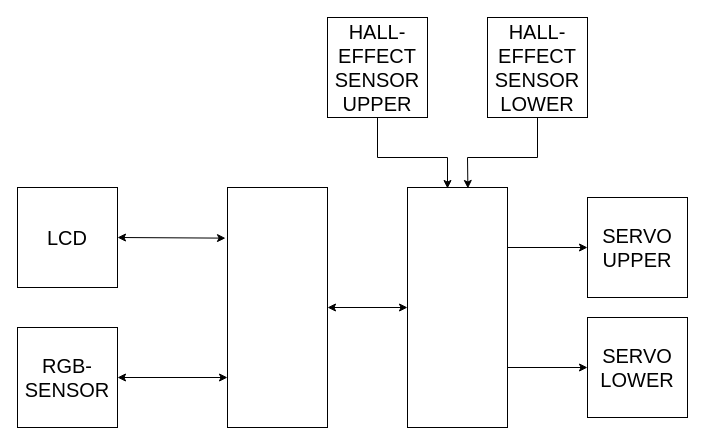
The diagram is 705 pixels wide and 445 high, and some of its shapes have lost their labels. The box of each missing label's shape, as (x1, y1, x2, y2) in pixels:
MASTER: (226, 186, 328, 428)
SLAVE: (406, 186, 508, 428)
